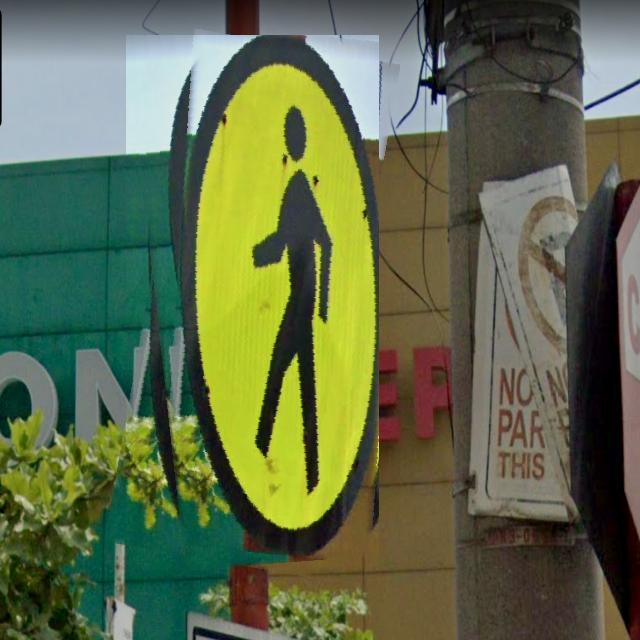pedestrian crossing: (126, 35, 379, 570)
